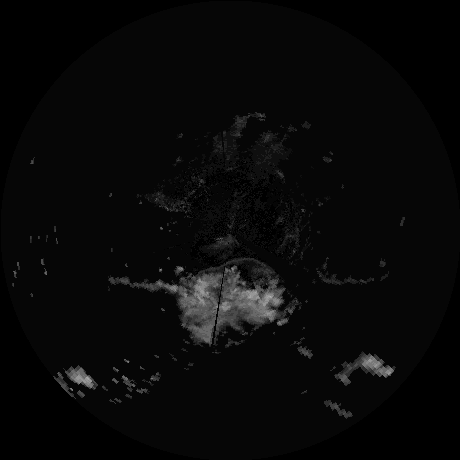frontgust: (197, 258, 280, 278)
